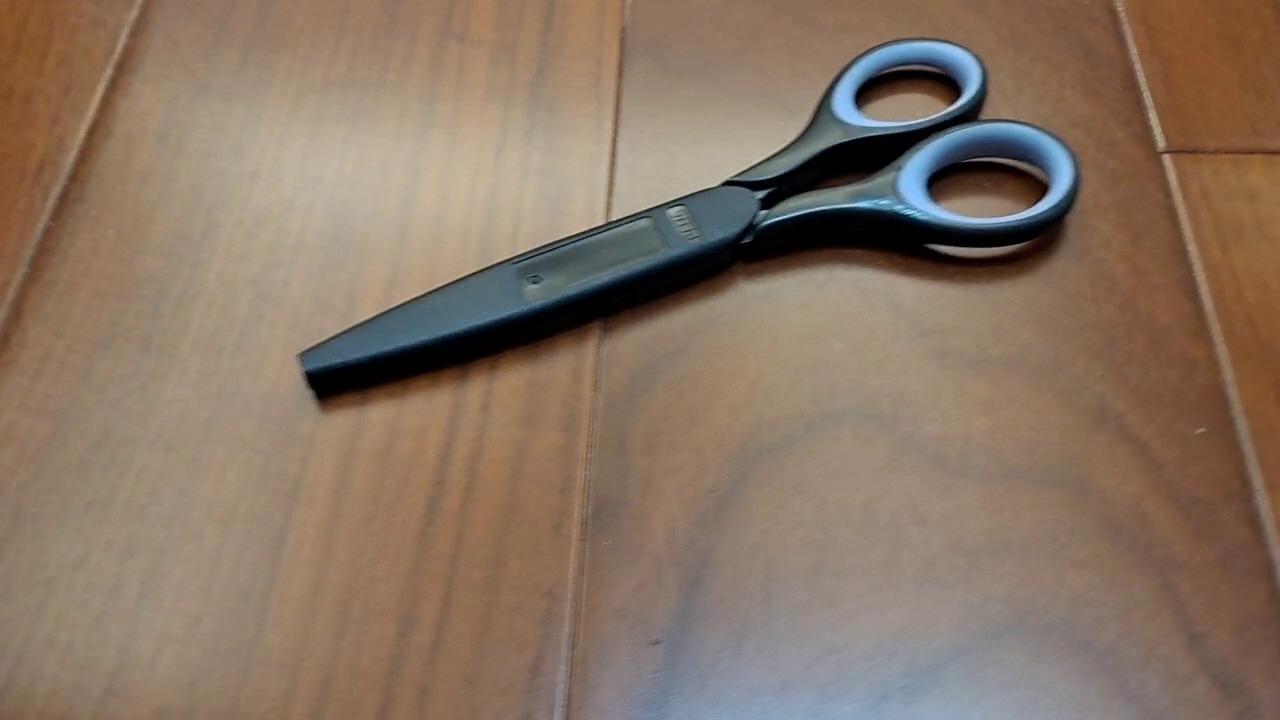scissors: (294, 33, 1083, 404)
